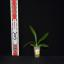leaf: (36, 33, 49, 47), (29, 25, 37, 46), (23, 42, 37, 48), (38, 44, 49, 47), (30, 44, 36, 47)
